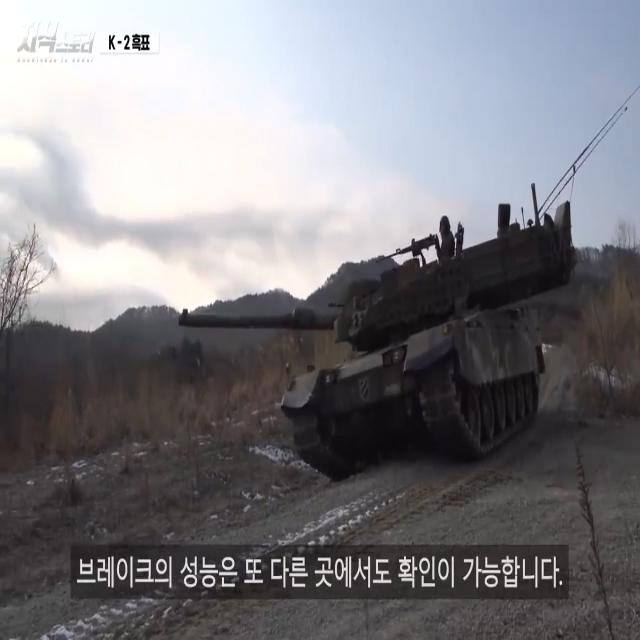korea tank: (177, 182, 581, 482)
